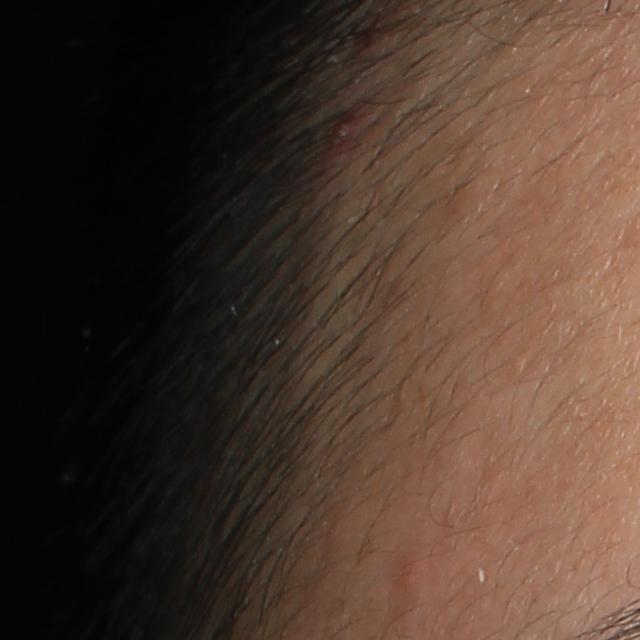papule: (322, 108, 370, 153), (397, 559, 423, 594)
